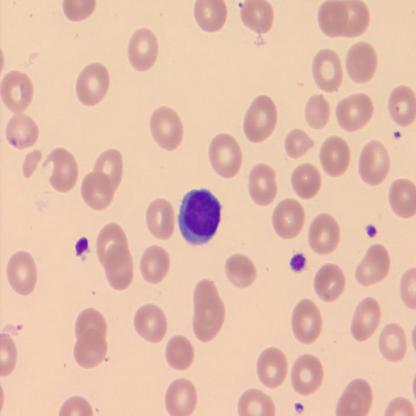Lymphocyte: (177, 187, 222, 244)
